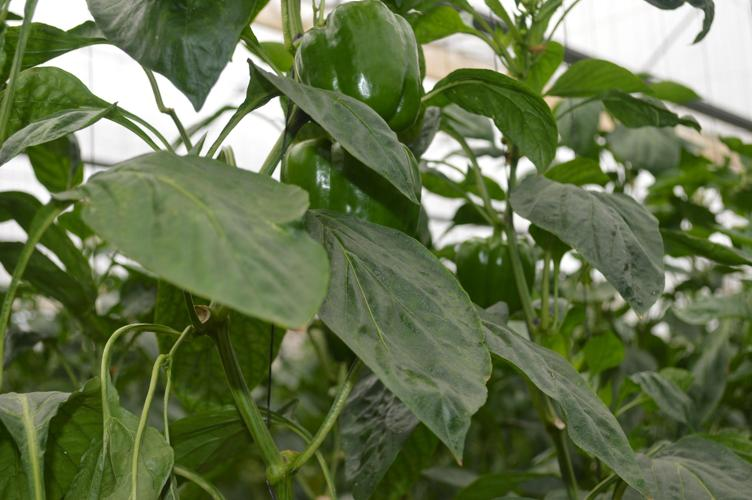BellPepper: (279, 139, 423, 270), (293, 3, 426, 135), (455, 223, 547, 324)
